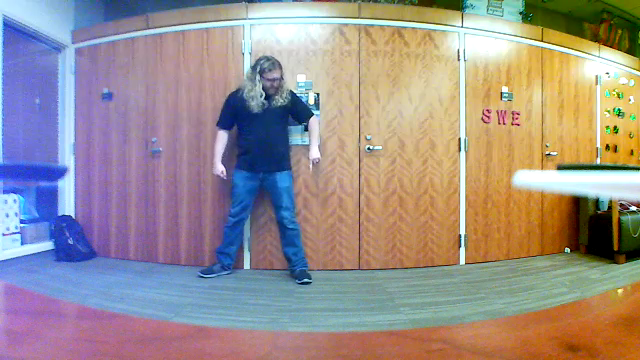down: (304, 142, 328, 183)
